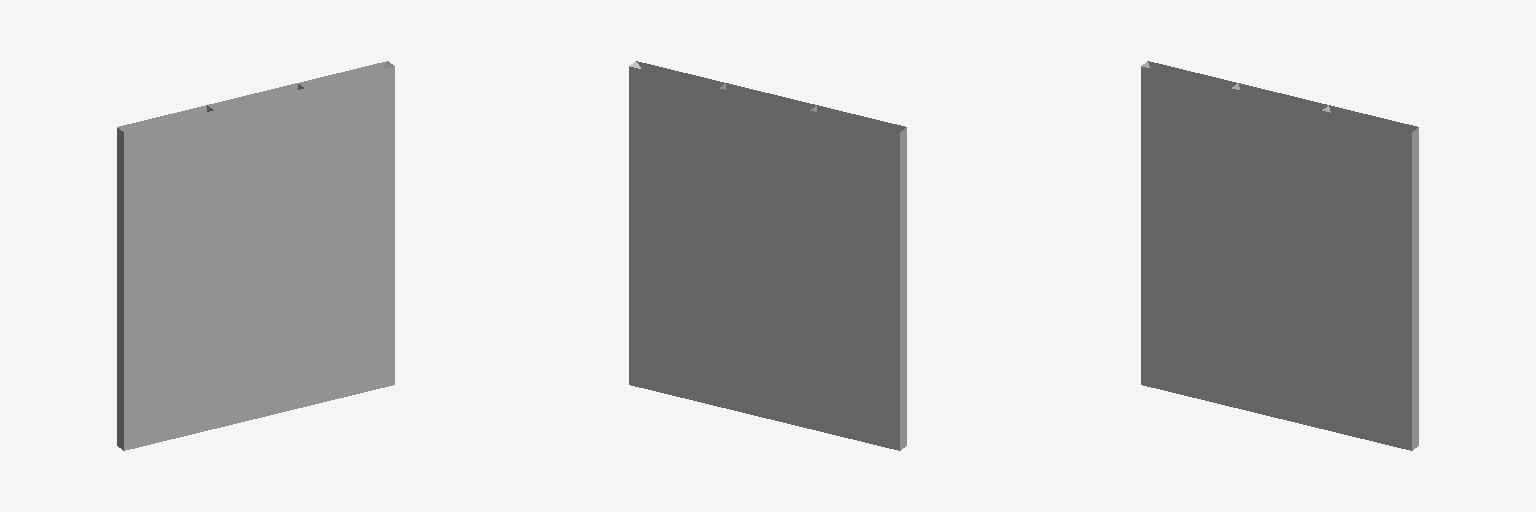
File: 3d_Felwood-Lake 02.wlw.obj
3 renders of one model, left to right at view 1: azimuth 30°, elevation 25°; view 2: azimuth 150°, elevation 25°; view 3: azimuth 330°, elevation 25°, orthographic.
Size of the model in its own units: 214 by 241 by 10.